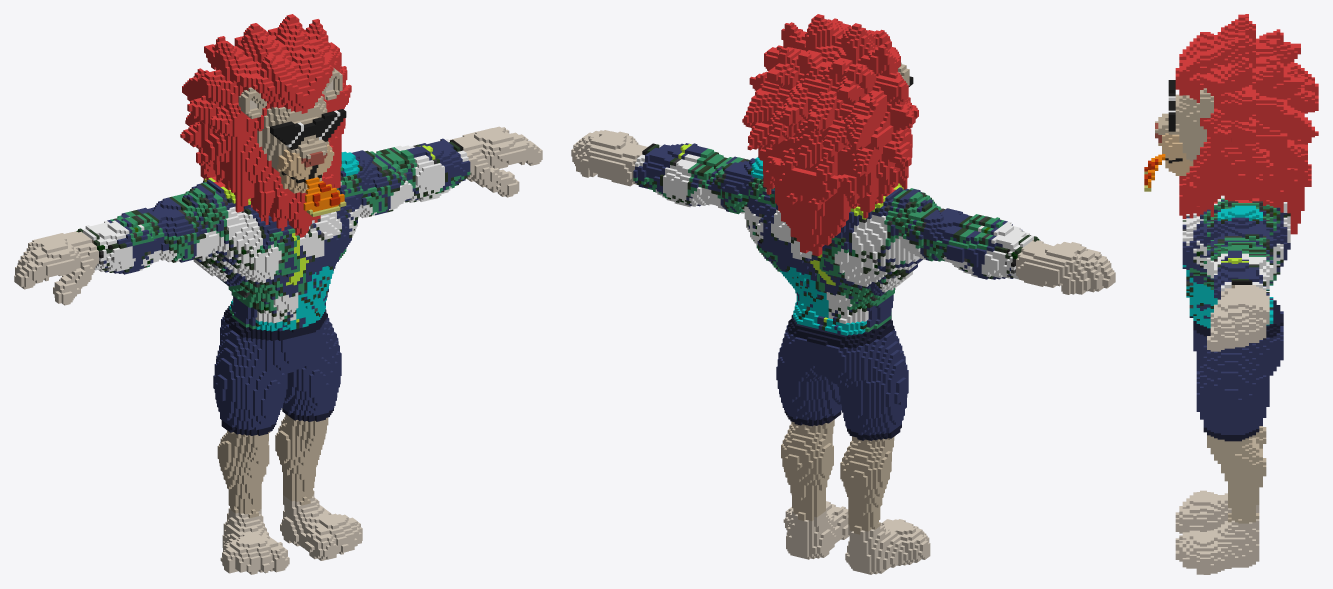
File: 286-DIxi6WzS.fbx
3 renders of one model, left to right at view 1: azimuth 30°, elevation 25°; view 2: azimuth 150°, elevation 25°; view 3: azimuth 270°, elevation 25°, orthographic. The views are drawn at different scales.
Parts seen in each view (by area): view 1: pizza; view 2: pizza; view 3: pizza.
Part boxes in pixels (left/top/right/bottom): pizza: left=14, top=14, right=542, bottom=574; pizza: left=571, top=14, right=1115, bottom=574; pizza: left=1144, top=14, right=1318, bottom=574.
Size of the model in its own units: 17.2 by 16.5 by 5.
5 materials, 5 textured.
